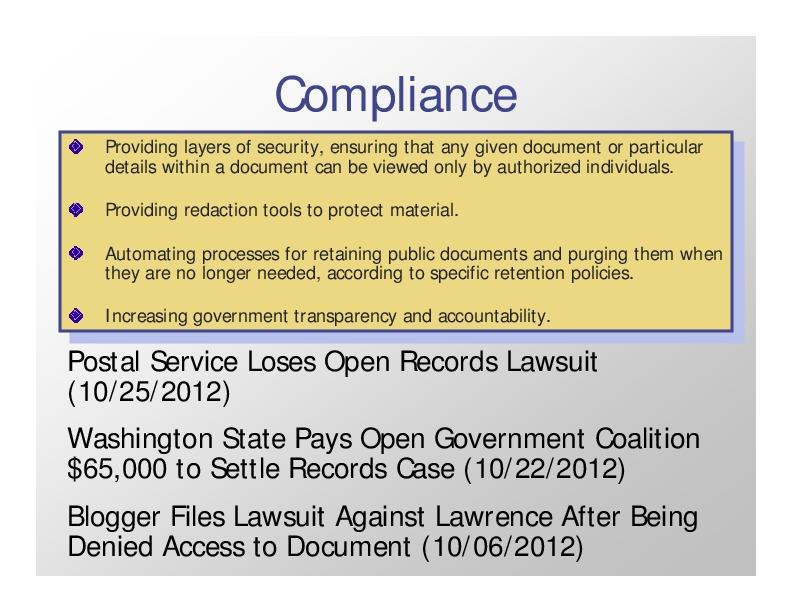paragraph: (47, 126, 755, 584)
title: (269, 62, 529, 124)
